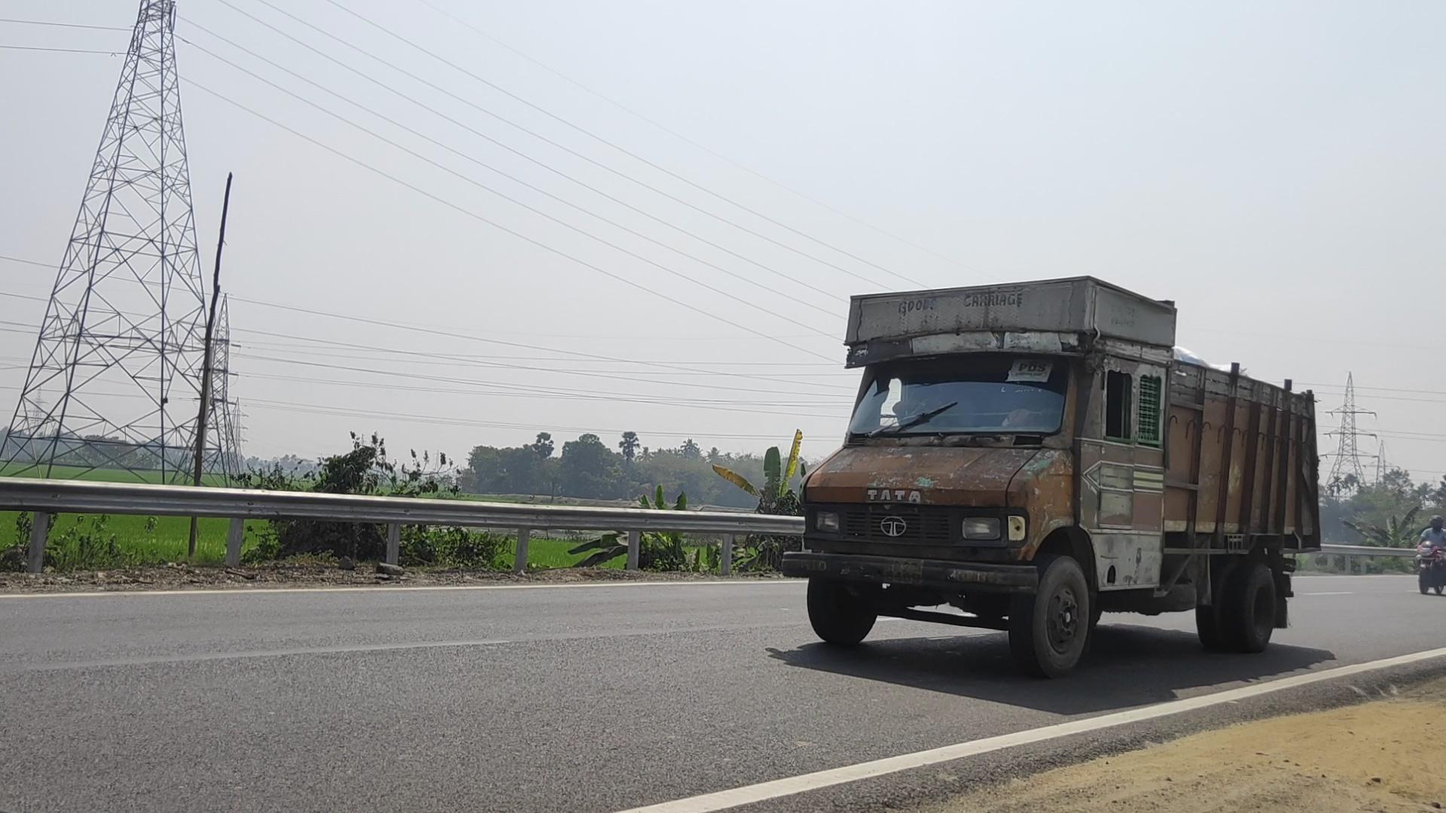bike: (1414, 514, 1446, 595)
truck: (783, 275, 1321, 678)
